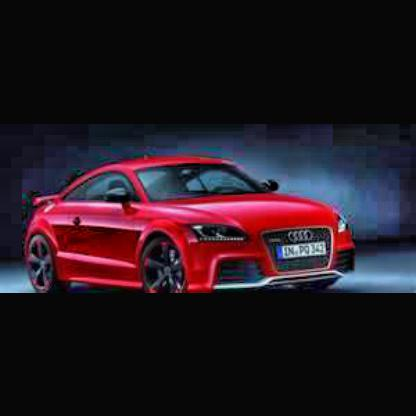Audi TT RS Coupe 2012: (21, 154, 364, 292)
